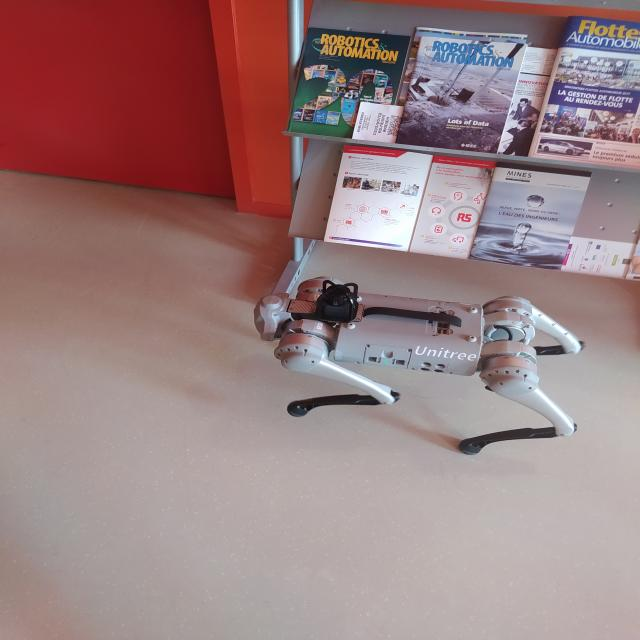unitree-go1-robot: (259, 276, 582, 454)
